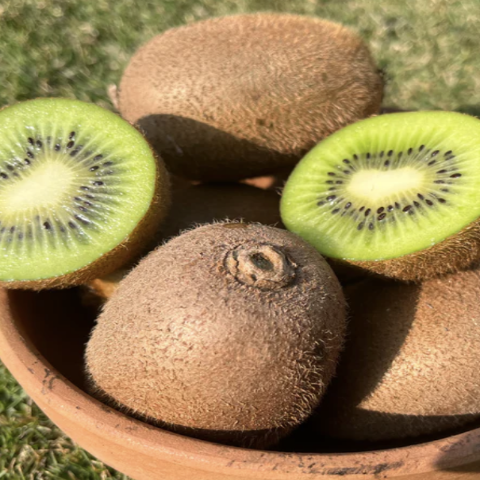kiwi: (74, 184, 363, 455), (90, 8, 391, 188)
